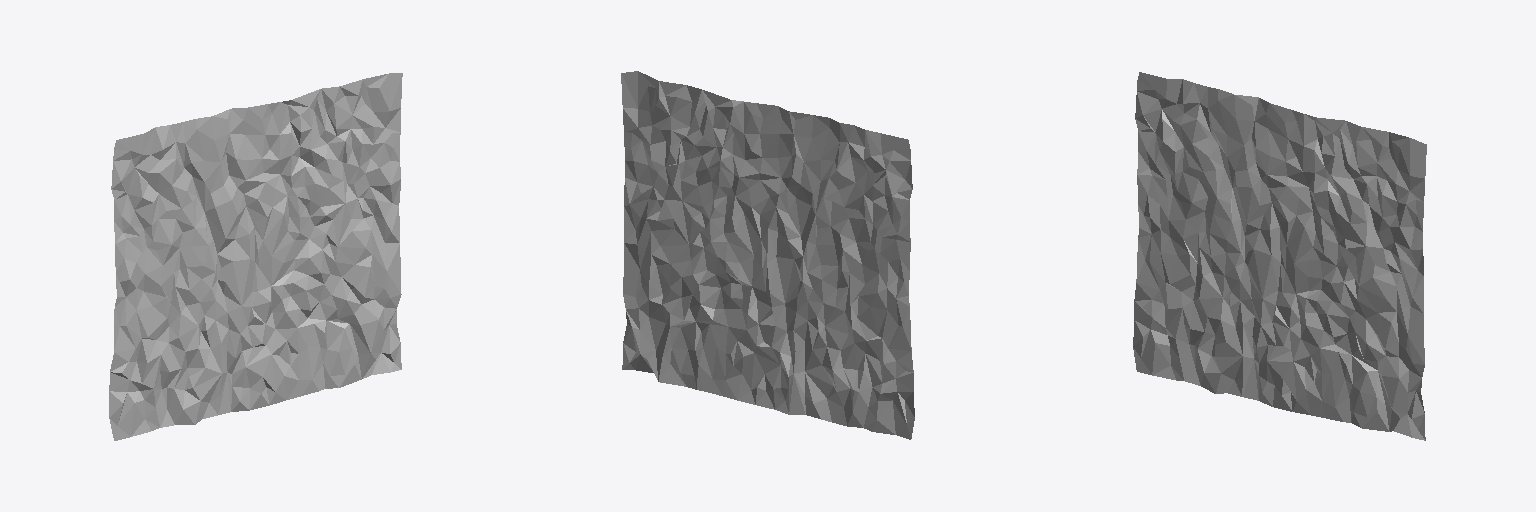
The model's file is cliff_3.obj.
3 views of the same model, side by side, from view 1: azimuth 30°, elevation 25°; view 2: azimuth 150°, elevation 25°; view 3: azimuth 330°, elevation 25° (orthographic).
Visible parts, largest first — view 1: Object.1; view 2: Object.1; view 3: Object.1.
Boxes of the visible parts, x1=… form: Object.1: x1=109, y1=73, x2=402, y2=440; Object.1: x1=621, y1=71, x2=914, y2=439; Object.1: x1=1133, y1=72, x2=1426, y2=440.
Size of the model in its own units: 204 by 202 by 5.